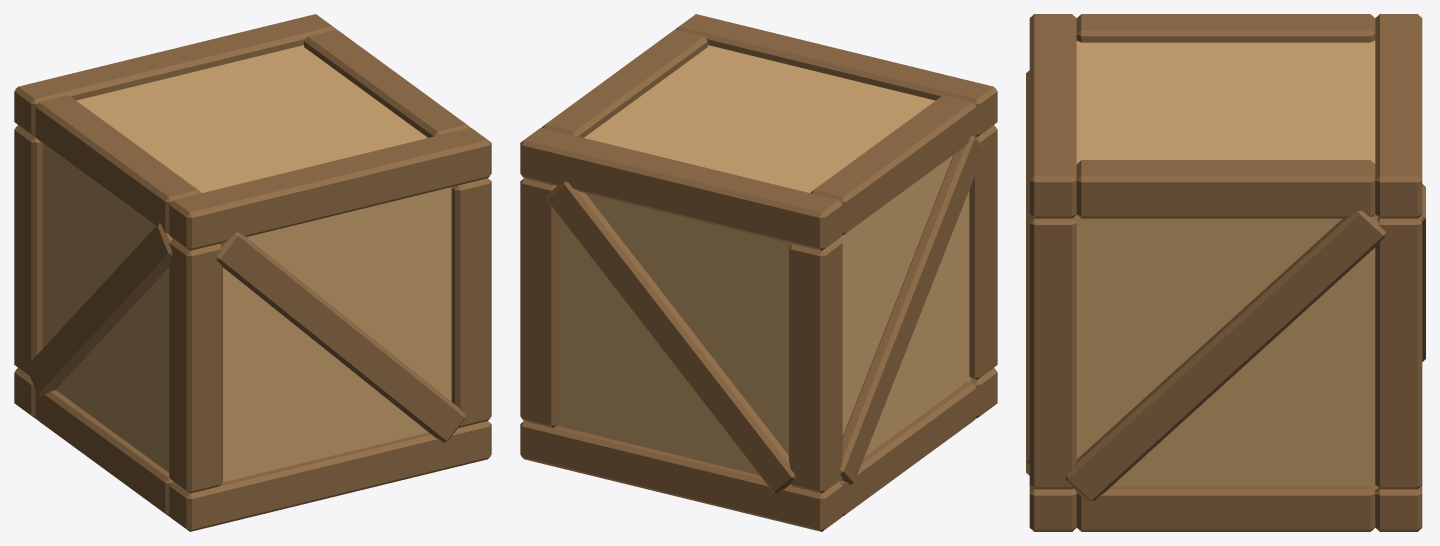
Rendered from crate.glb.
3 renders of one model, left to right at view 1: azimuth 30°, elevation 25°; view 2: azimuth 150°, elevation 25°; view 3: azimuth 270°, elevation 25°, orthographic. The views are drawn at different scales.
Parts seen in each view (by area): view 1: Crate; view 2: Crate; view 3: Crate.
Boxes of the visible parts, x1=… form: Crate: x1=14, y1=14, x2=491, y2=531; Crate: x1=520, y1=14, x2=997, y2=531; Crate: x1=1026, y1=14, x2=1425, y2=531.
Bounding box in the file's own units: 1.02 × 1 × 1.02.
